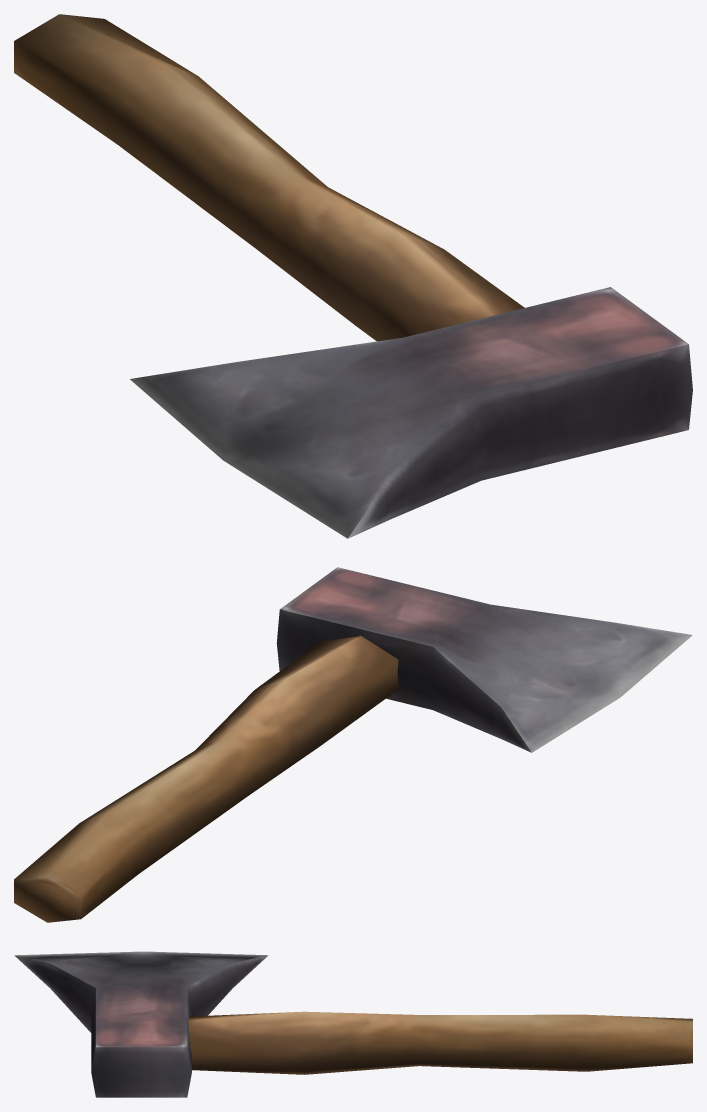
Rendered from PiErSenGongYu_01_futou_01.FBX.
3 views of the same model, one above another, from view 1: azimuth 30°, elevation 25°; view 2: azimuth 150°, elevation 25°; view 3: azimuth 270°, elevation 25° (orthographic). The views are drawn at different scales.
Visible parts, largest first — view 1: PiErSenDeGongYu_futou_01; view 2: PiErSenDeGongYu_futou_01; view 3: PiErSenDeGongYu_futou_01.
Part boxes in pixels (bbox=[...]): PiErSenDeGongYu_futou_01: bbox=[14, 14, 692, 538]; PiErSenDeGongYu_futou_01: bbox=[14, 567, 692, 922]; PiErSenDeGongYu_futou_01: bbox=[14, 951, 692, 1097].
Size of the model in its own units: 79.13 by 19.25 by 188.
